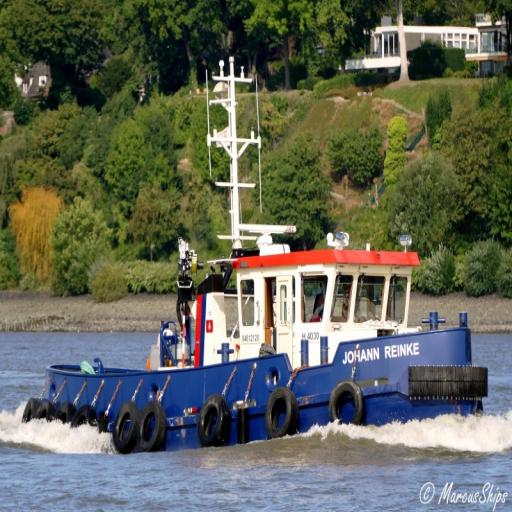tugboat: (15, 51, 495, 464)
